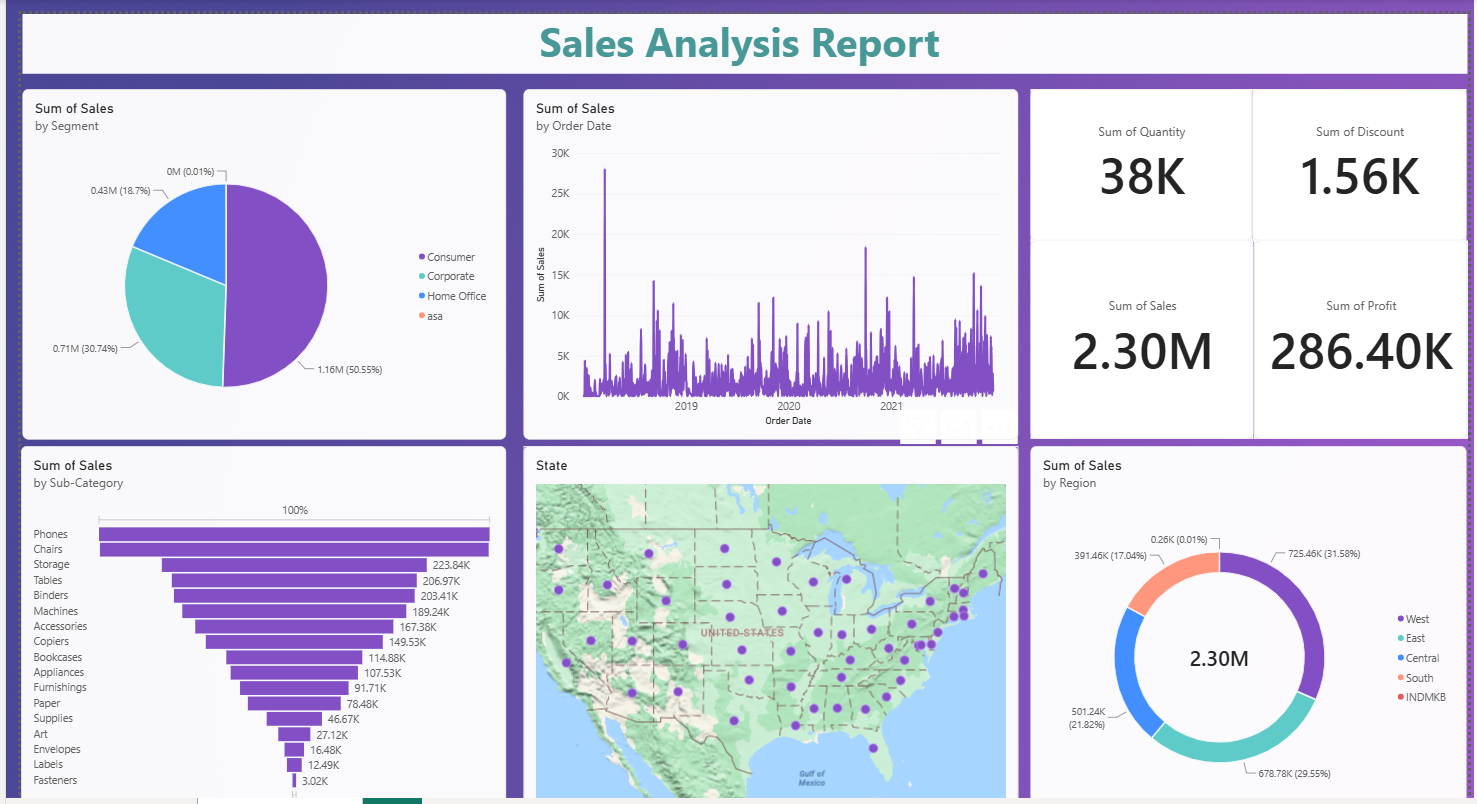

What the dashboard file says about the page in this screenshot:
{"tool":"powerbi","page":{"name":"Page 1","canvas":[1920,1080],"ordinal":0},"visuals":[{"type":"donutChart","fields":{"Category":["Orders.Region"],"Y":["Sum(Orders.Sales)"]},"box":[1340.1,574.3,578.4,504.3],"z":0},{"type":"funnel","fields":{"Category":["Orders.Sub-Category"],"Y":["Sum(Orders.Sales)"]},"box":[0,574.3,644.3,504.3],"z":1000},{"type":"azureMap","fields":{"Category":["Orders.State"]},"box":[667,574.3,656.7,504.3],"z":2000},{"type":"pieChart","fields":{"Category":["Orders.Segment"],"Y":["Sum(Orders.Sales)"]},"box":[2.1,98.8,642.2,465.2],"z":3000},{"type":"lineChart","fields":{"Category":["Orders.Order Date"],"Y":["Sum(Orders.Sales)"]},"box":[667,98.8,656.7,465.2],"z":4000},{"type":"cardVisual","fields":{"Data":["Sum(Orders.Sales)"]},"box":[1340.2,300.1,296,263.6],"z":5000},{"type":"cardVisual","fields":{"Data":["Sum(Orders.Profit)"]},"box":[1636.3,300.1,283.9,263.6],"z":5001},{"type":"cardVisual","fields":{"Data":["Sum(Orders.Quantity)"]},"box":[1340.1,98.8,294.4,201.7],"z":5002},{"type":"cardVisual","fields":{"Data":["Sum(Orders.Discount)"]},"box":[1634.4,98.8,284.1,201.7],"z":5003},{"type":"textbox","box":[2,0,1918.1,79.1],"z":5004}]}

Visuals, with their boxes in screenshot pixels (x1, y1, x2, y2):
donutChart - Orders.Region x Sum(Orders.Sales): [x1=1031, y1=437, x2=1472, y2=803]
funnel - Orders.Sub-Category x Sum(Orders.Sales): [x1=12, y1=437, x2=502, y2=803]
azureMap - Orders.State: [x1=519, y1=437, x2=1019, y2=803]
pieChart - Orders.Segment x Sum(Orders.Sales): [x1=13, y1=75, x2=502, y2=429]
lineChart - Orders.Order Date x Sum(Orders.Sales): [x1=519, y1=75, x2=1019, y2=429]
cardVisual - Sum(Orders.Sales): [x1=1031, y1=228, x2=1257, y2=429]
cardVisual - Sum(Orders.Profit): [x1=1257, y1=228, x2=1473, y2=429]
cardVisual - Sum(Orders.Quantity): [x1=1031, y1=75, x2=1255, y2=229]
cardVisual - Sum(Orders.Discount): [x1=1255, y1=75, x2=1472, y2=229]
textbox: [x1=13, y1=0, x2=1473, y2=60]
